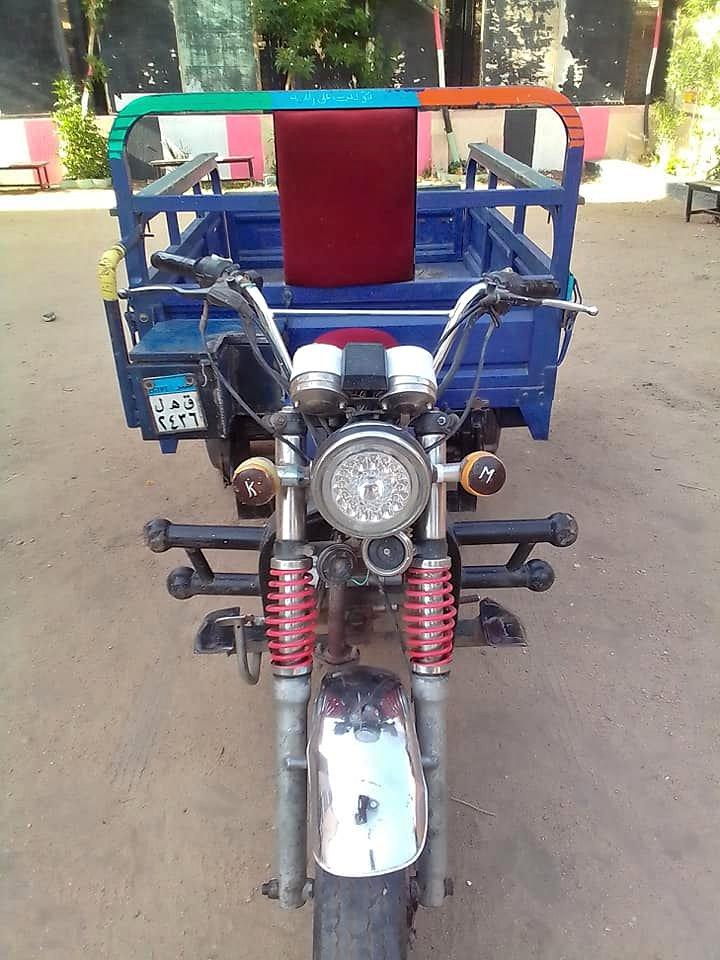License Plate: (148, 374, 209, 433)
